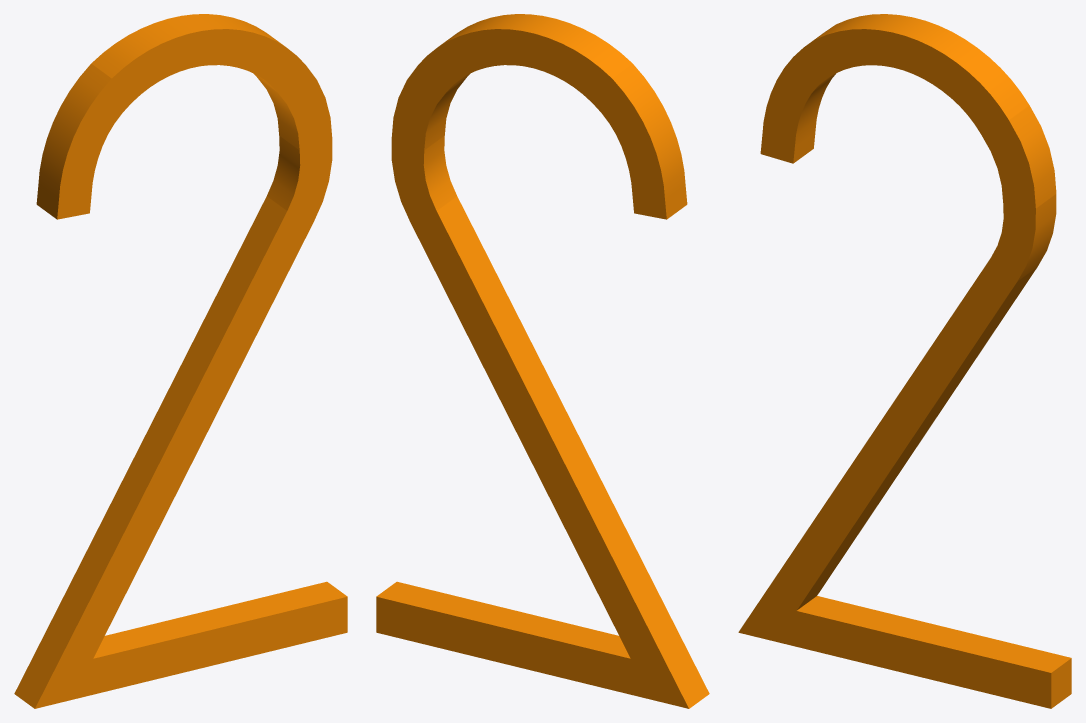
The picture shows the model from 3 angles, left to right: view 1: azimuth 30°, elevation 25°; view 2: azimuth 150°, elevation 25°; view 3: azimuth 330°, elevation 25°; orthographic projection.
Parts seen in each view (by area): view 1: 2; view 2: 2; view 3: 2.
Part boxes in pixels (x1,y1,x2,y2): 2: (14,14,347,708); 2: (376,14,709,708); 2: (738,14,1071,708).
Bounding box in the file's own units: 43.91 × 85.5 × 5.
